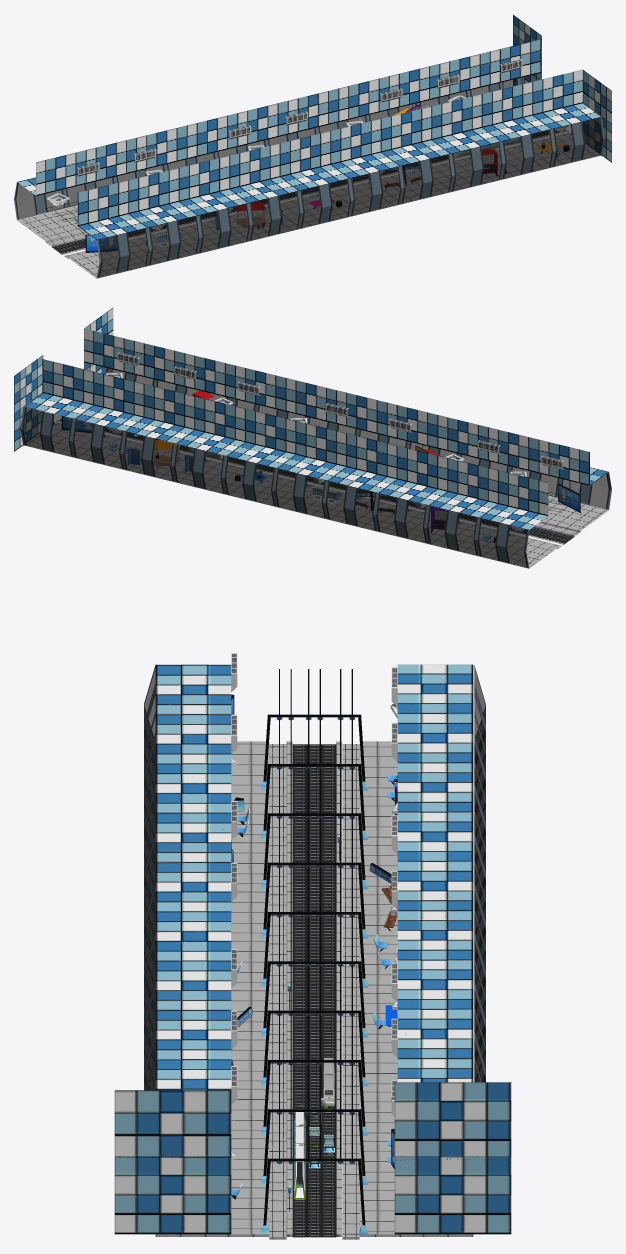
File: subwaysurferstest48.glb
The picture shows the model from 3 angles, top to bottom: view 1: azimuth 30°, elevation 25°; view 2: azimuth 150°, elevation 25°; view 3: azimuth 270°, elevation 25°; orthographic projection. The views are drawn at different scales.
Parts seen in each view (by area): view 1: tiledwall.017, tiledwall.006, tiledwall.019, tiledwall.024, tiledwall.003, tiledwall, tiledwall.018, tiledwall.005, tiledwall.016, tiledwall.023, window1, window1.009 (+39 smaller); view 2: tiledwall.025, tiledwall.009, tiledwall.007, tiledwall.013, tiledwall.020, tiledwall.021, tiledwall.022, tiledwall.027, tiledwall.026, tiledwall.012, window1.006, window1.013 (+39 smaller); view 3: tiledwall.008, tiledwall.004, tiledwall.002, tiledwall.001, tiledwall.016, tiledwall.019, tiledwall.020, tiledwall.025, tiledwall.006, tiledwall.017, tiledwall.018, tiledwall.023 (+56 smaller).
Boxes of the visible parts, left/top/right/bottom form: tiledwall.017: left=279, top=131, right=348, bottom=190; tiledwall.006: left=380, top=106, right=449, bottom=166; tiledwall.019: left=178, top=156, right=247, bottom=215; tiledwall.024: left=77, top=180, right=146, bottom=240; tiledwall.003: left=481, top=82, right=550, bottom=141; tiledwall: left=532, top=69, right=601, bottom=129; tiledwall.018: left=229, top=143, right=297, bottom=203; tiledwall.005: left=431, top=94, right=500, bottom=153; tiledwall.016: left=330, top=119, right=399, bottom=178; tiledwall.023: left=128, top=168, right=196, bottom=227; window1: left=551, top=117, right=604, bottom=167; window1.009: left=349, top=166, right=402, bottom=216; tiledwall.025: left=378, top=445, right=447, bottom=505; tiledwall.009: left=125, top=384, right=194, bottom=443; tiledwall.007: left=74, top=371, right=143, bottom=431; tiledwall.013: left=24, top=359, right=92, bottom=418; tiledwall.020: left=226, top=408, right=295, bottom=468; tiledwall.021: left=277, top=421, right=345, bottom=480; tiledwall.022: left=327, top=433, right=396, bottom=492; tiledwall.027: left=479, top=470, right=548, bottom=529; tiledwall.026: left=428, top=458, right=497, bottom=517; tiledwall.012: left=175, top=396, right=244, bottom=455; window1.006: left=71, top=419, right=124, bottom=469; window1.013: left=273, top=468, right=326, bottom=518; tiledwall.008: left=394, top=1156, right=511, bottom=1234; tiledwall.004: left=114, top=1156, right=231, bottom=1234; tiledwall.002: left=394, top=1082, right=511, bottom=1160; tiledwall.001: left=114, top=1090, right=231, bottom=1157; tiledwall.016: left=155, top=911, right=231, bottom=960; tiledwall.019: left=155, top=763, right=231, bottom=812; tiledwall.020: left=397, top=911, right=473, bottom=960; tiledwall.025: left=397, top=763, right=473, bottom=812; tiledwall.006: left=155, top=960, right=231, bottom=1009; tiledwall.017: left=155, top=862, right=231, bottom=911; tiledwall.018: left=155, top=812, right=231, bottom=861; tiledwall.023: left=155, top=714, right=231, bottom=763.
Size of the model in its own units: 403 by 59.5 by 136.
6 materials, 6 textured.
